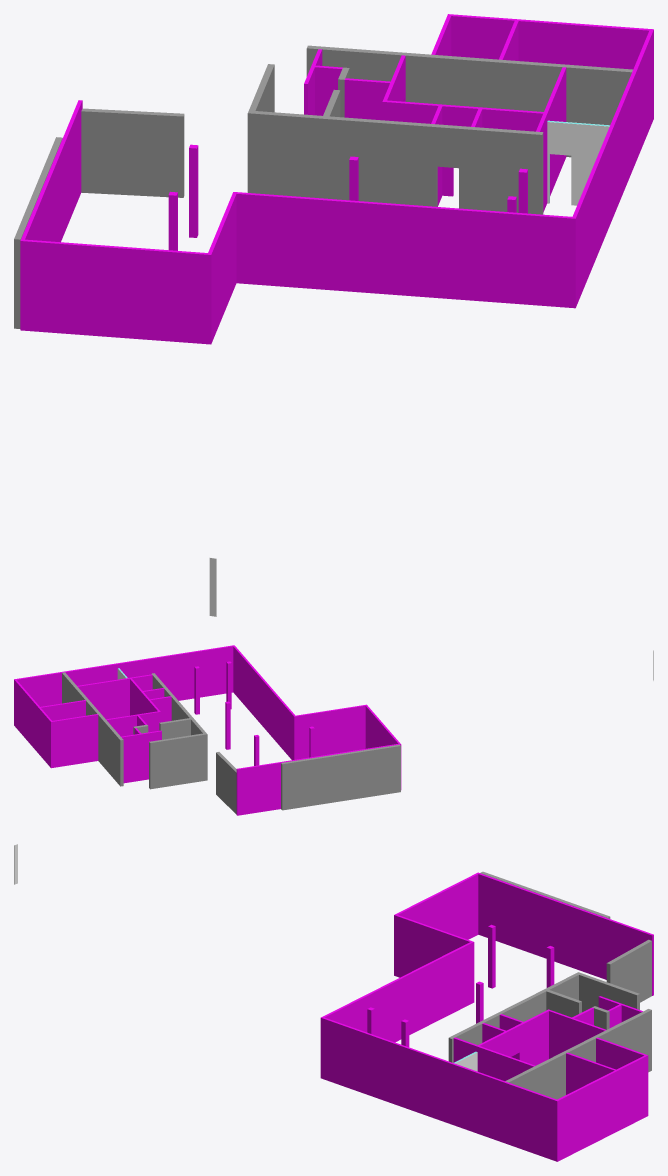
File: 1253_AR_AFP_BASE BUILDING_MASTER_malfredMXUZG_1AdpURx9v8fxrfh$v1Gf19-DPH PLANT_IfcWallStandardCase.dae
3 renders of one model, top to bottom at view 1: azimuth 30°, elevation 25°; view 2: azimuth 150°, elevation 25°; view 3: azimuth 270°, elevation 25°, orthographic. The views are drawn at different scales.
Visible parts, largest first — view 1: 2PQj1yHDf8ZRGZ1yijXYHI, 2PQj1yHDf8ZRGZ1yijXYHU, 2PQj1yHDf8ZRGZ1yijXYHK, 2PQj1yHDf8ZRGZ1yijXYH5, 2PQj1yHDf8ZRGZ1yijXYHG, 2PQj1yHDf8ZRGZ1yijXYHJ, 2PQj1yHDf8ZRGZ1yijXYz1, 2PQj1yHDf8ZRGZ1yijXYHN, 2PQj1yHDf8ZRGZ1yijXYHS, 2PQj1yHDf8ZRGZ1yijXYxa, 2PQj1yHDf8ZRGZ1yijXYHL, 2PQj1yHDf8ZRGZ1yijXYHV (+3 smaller); view 2: 2PQj1yHDf8ZRGZ1yijXYHM, 2PQj1yHDf8ZRGZ1yijXYHJ, 2PQj1yHDf8ZRGZ1yijXYHL, 2PQj1yHDf8ZRGZ1yijXYHI, 2PQj1yHDf8ZRGZ1yijXYHN, 2PQj1yHDf8ZRGZ1yijXYyx, 2PQj1yHDf8ZRGZ1yijXYH5, 2PQj1yHDf8ZRGZ1yijXYHQ, 2PQj1yHDf8ZRGZ1yijXYz1, 2PQj1yHDf8ZRGZ1yijXYHV, 2PQj1yHDf8ZRGZ1yijXYHO, 2PQj1yHDf8ZRGZ1yijXYHH (+9 smaller); view 3: 2PQj1yHDf8ZRGZ1yijXYHJ, 2PQj1yHDf8ZRGZ1yijXYHN, 2PQj1yHDf8ZRGZ1yijXYHI, 2PQj1yHDf8ZRGZ1yijXYz1, 2PQj1yHDf8ZRGZ1yijXYH5, 2PQj1yHDf8ZRGZ1yijXYHK, 2PQj1yHDf8ZRGZ1yijXYHL, 2PQj1yHDf8ZRGZ1yijXYHS, 2PQj1yHDf8ZRGZ1yijXYHU, 2PQj1yHDf8ZRGZ1yijXYHG, 2PQj1yHDf8ZRGZ1yijXYHV, 2PQj1yHDf8ZRGZ1yijXY$m (+6 smaller).
Boxes of the visible parts, x1,y1,x2,y2 form: 2PQj1yHDf8ZRGZ1yijXYHI: [236, 192, 576, 308]; 2PQj1yHDf8ZRGZ1yijXYHU: [254, 111, 543, 214]; 2PQj1yHDf8ZRGZ1yijXYHK: [24, 239, 211, 344]; 2PQj1yHDf8ZRGZ1yijXYH5: [306, 45, 632, 157]; 2PQj1yHDf8ZRGZ1yijXYHG: [81, 108, 184, 197]; 2PQj1yHDf8ZRGZ1yijXYHJ: [572, 29, 653, 305]; 2PQj1yHDf8ZRGZ1yijXYz1: [451, 14, 649, 69]; 2PQj1yHDf8ZRGZ1yijXYHN: [20, 100, 82, 330]; 2PQj1yHDf8ZRGZ1yijXYHS: [386, 100, 543, 196]; 2PQj1yHDf8ZRGZ1yijXYxa: [547, 120, 609, 205]; 2PQj1yHDf8ZRGZ1yijXYHL: [208, 192, 236, 341]; 2PQj1yHDf8ZRGZ1yijXYHV: [536, 67, 566, 212]; 2PQj1yHDf8ZRGZ1yijXYHM: [281, 744, 400, 810]; 2PQj1yHDf8ZRGZ1yijXYHJ: [14, 645, 233, 725]; 2PQj1yHDf8ZRGZ1yijXYHL: [293, 705, 365, 759]; 2PQj1yHDf8ZRGZ1yijXYHI: [233, 645, 294, 760]; 2PQj1yHDf8ZRGZ1yijXYHN: [236, 743, 401, 815]; 2PQj1yHDf8ZRGZ1yijXYyx: [50, 714, 98, 768]; 2PQj1yHDf8ZRGZ1yijXYH5: [62, 672, 123, 786]; 2PQj1yHDf8ZRGZ1yijXYHQ: [149, 736, 187, 789]; 2PQj1yHDf8ZRGZ1yijXYz1: [14, 680, 51, 766]; 2PQj1yHDf8ZRGZ1yijXYHV: [77, 674, 152, 719]; 2PQj1yHDf8ZRGZ1yijXYHO: [121, 730, 161, 783]; 2PQj1yHDf8ZRGZ1yijXYHH: [186, 733, 207, 783]; 2PQj1yHDf8ZRGZ1yijXYHJ: [323, 1017, 558, 1161]; 2PQj1yHDf8ZRGZ1yijXYHN: [476, 872, 653, 995]; 2PQj1yHDf8ZRGZ1yijXYHI: [320, 942, 472, 1078]; 2PQj1yHDf8ZRGZ1yijXYz1: [557, 1055, 646, 1160]; 2PQj1yHDf8ZRGZ1yijXYH5: [505, 1009, 651, 1099]; 2PQj1yHDf8ZRGZ1yijXYHK: [394, 873, 478, 976]; 2PQj1yHDf8ZRGZ1yijXYHL: [396, 915, 474, 1003]; 2PQj1yHDf8ZRGZ1yijXYHS: [478, 1010, 548, 1065]; 2PQj1yHDf8ZRGZ1yijXYHU: [448, 973, 578, 1062]; 2PQj1yHDf8ZRGZ1yijXYHG: [606, 939, 651, 1002]; 2PQj1yHDf8ZRGZ1yijXYHV: [453, 1037, 535, 1080]; 2PQj1yHDf8ZRGZ1yijXY$m: [566, 1052, 615, 1094].
Size of the model in its own units: 36.45 by 35.39 by 3.7.
